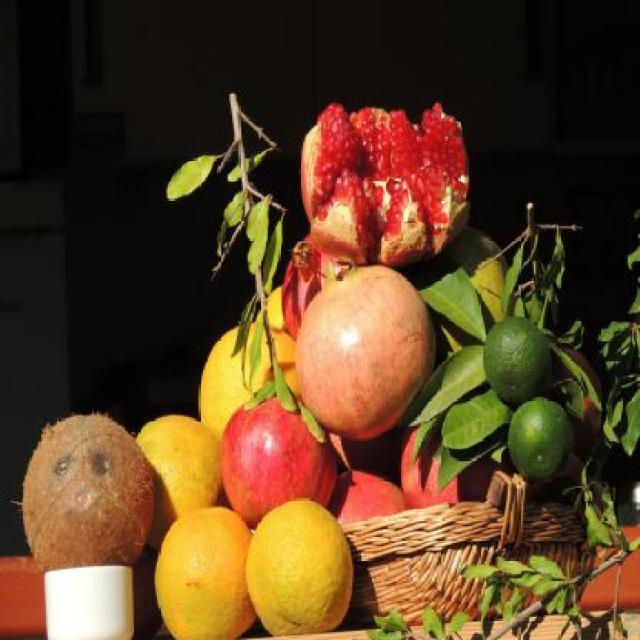Orange: (242, 502, 356, 638)
